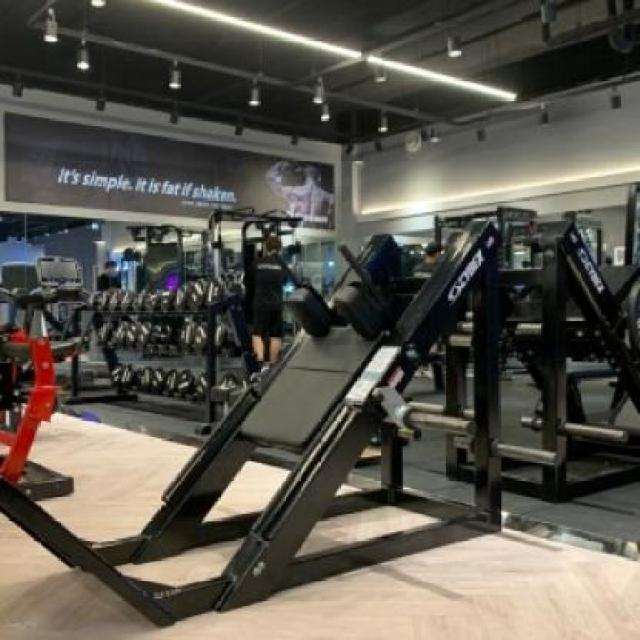leg press: (0, 152, 549, 640)
